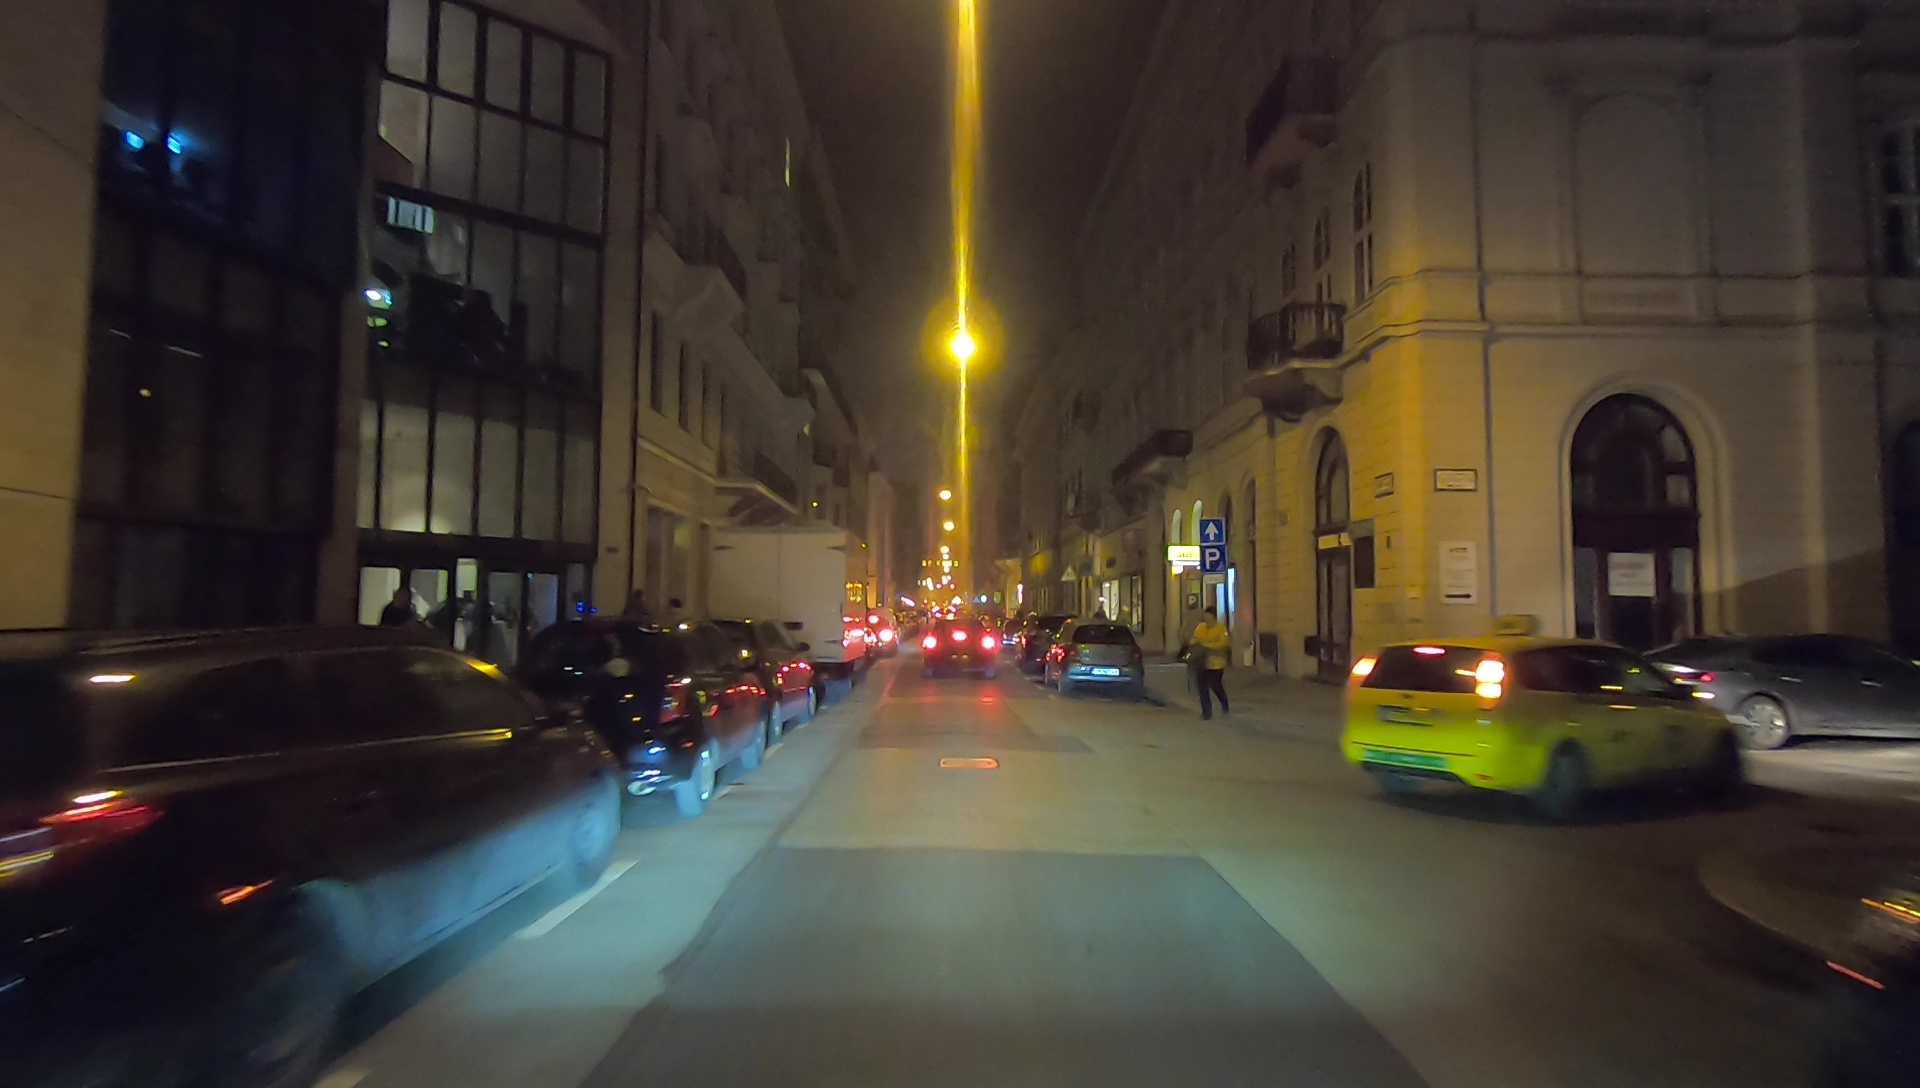person: (1182, 611, 1238, 723)
